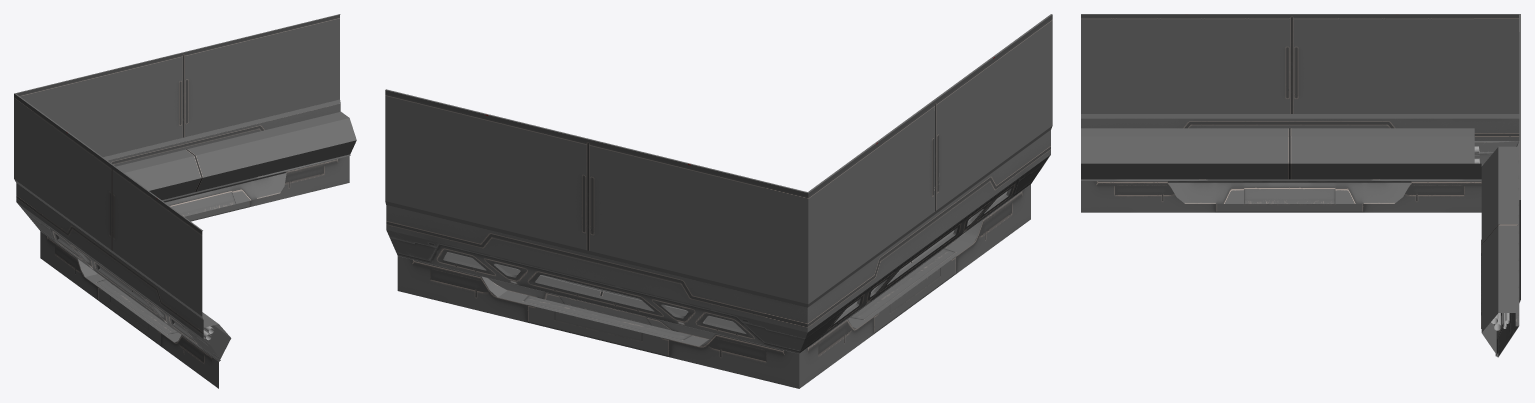
The model's file is S_TopCablesCornerSquareOuter.gltf.
The picture shows the model from 3 angles, left to right: view 1: azimuth 30°, elevation 25°; view 2: azimuth 150°, elevation 25°; view 3: azimuth 270°, elevation 25°; orthographic projection. The views are drawn at different scales.
Visible parts, largest first — view 1: Plane_073-col; view 2: Plane_073-col; view 3: Plane_073-col.
Part boxes in pixels (x1=…): Plane_073-col: x1=14, y1=14, x2=356, y2=388; Plane_073-col: x1=385, y1=14, x2=1052, y2=388; Plane_073-col: x1=1081, y1=14, x2=1520, y2=357.
Size of the model in its own units: 4.22 by 2 by 4.22.
4 materials, 4 textured.
